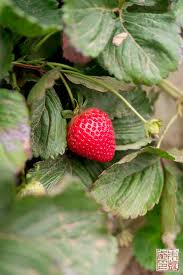ripe: (64, 105, 117, 165)
